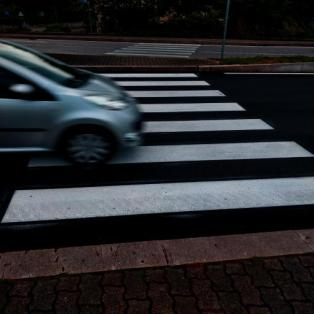Paso de Cebra: (0, 140, 314, 230), (98, 72, 217, 88)
